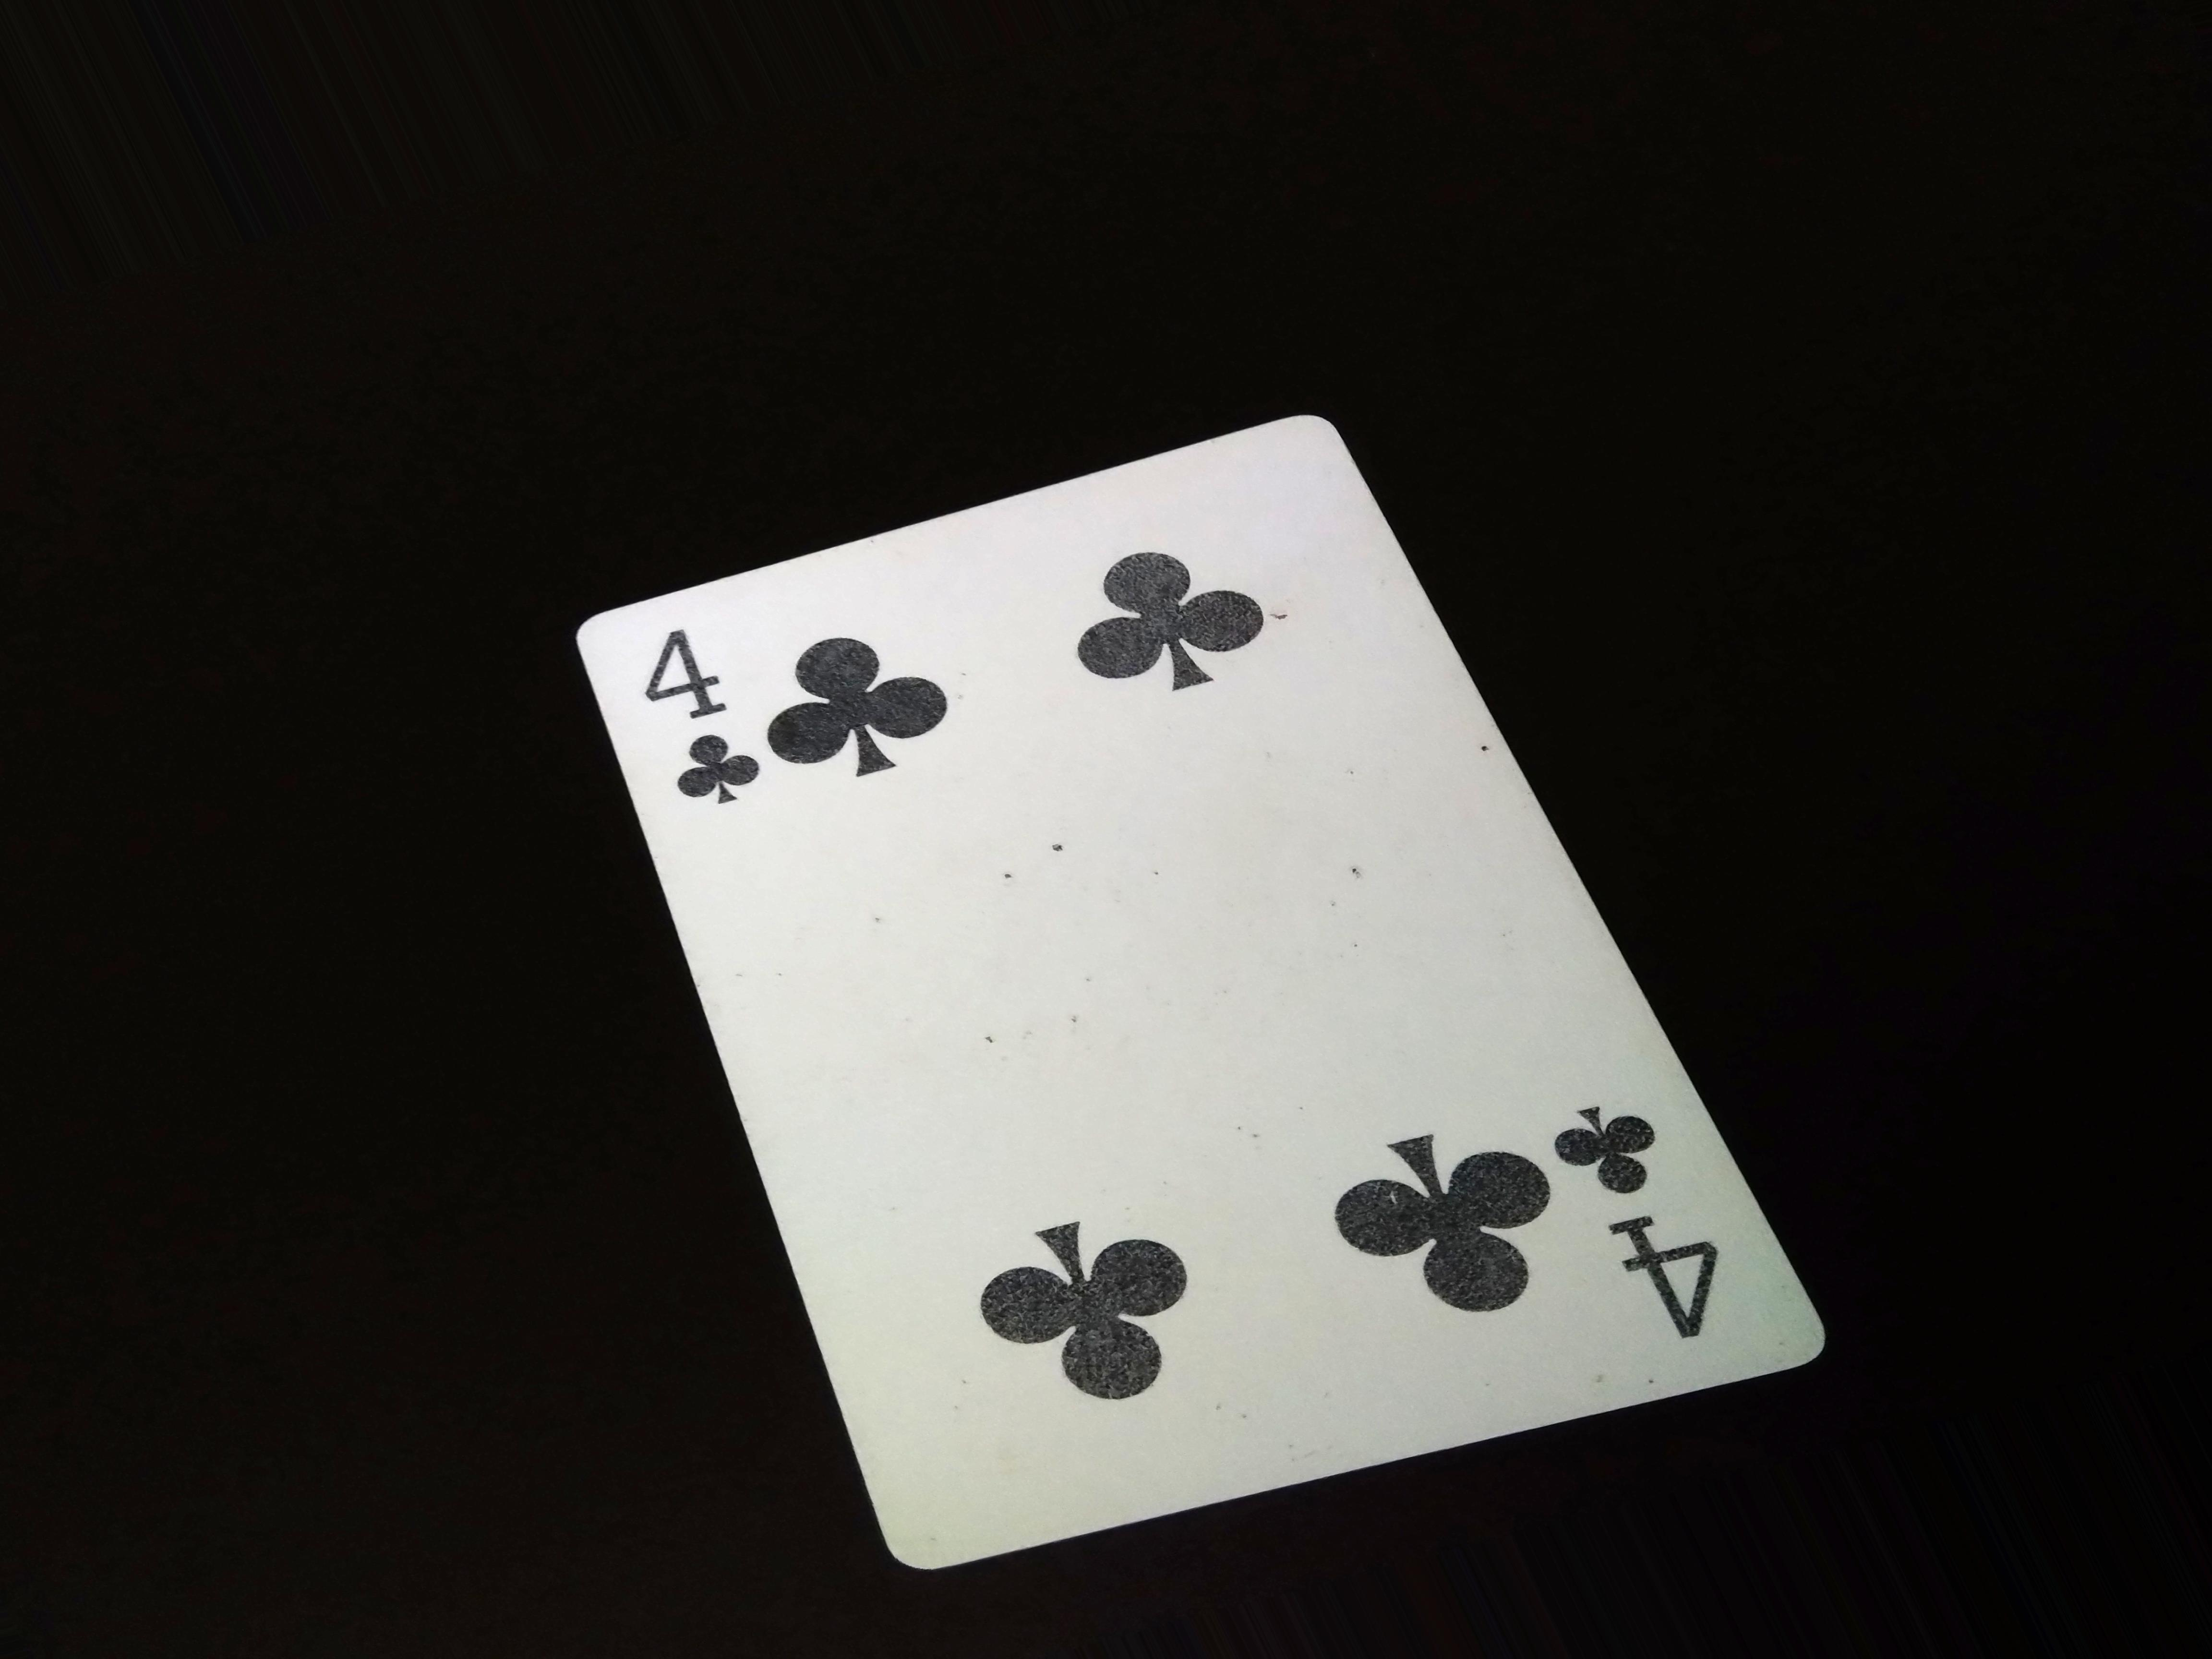4C: (1555, 1089, 1723, 1364)
